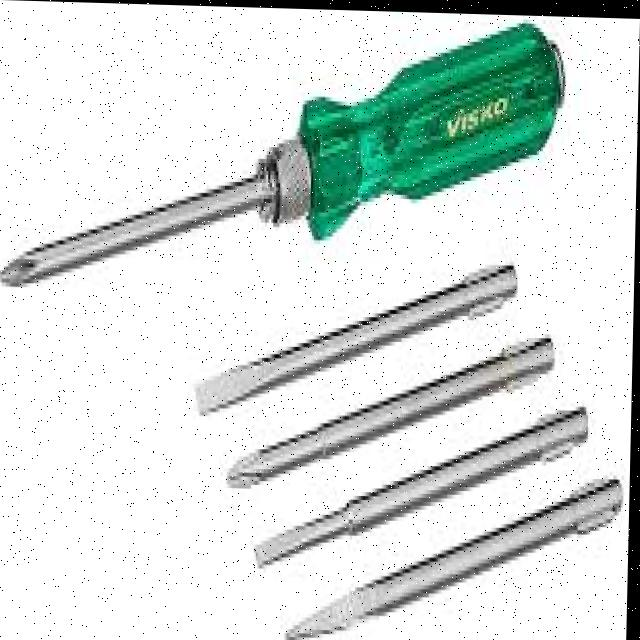Screwdriver: (1, 19, 564, 284)
